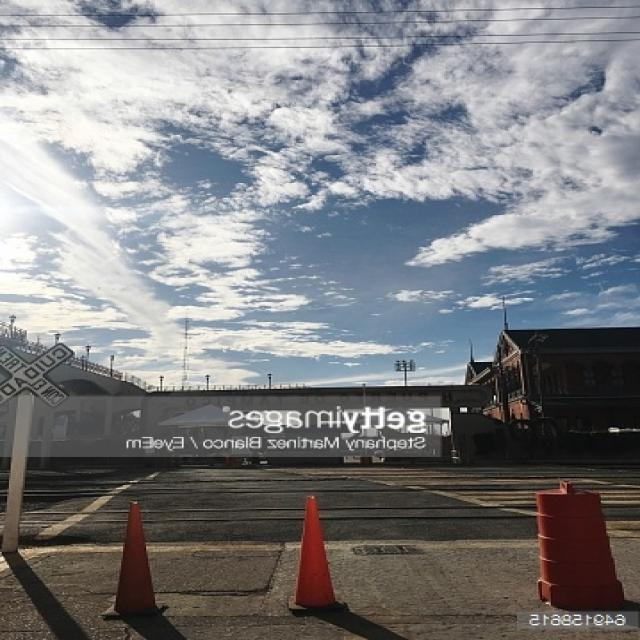cone: (100, 501, 166, 619), (287, 493, 348, 613)
